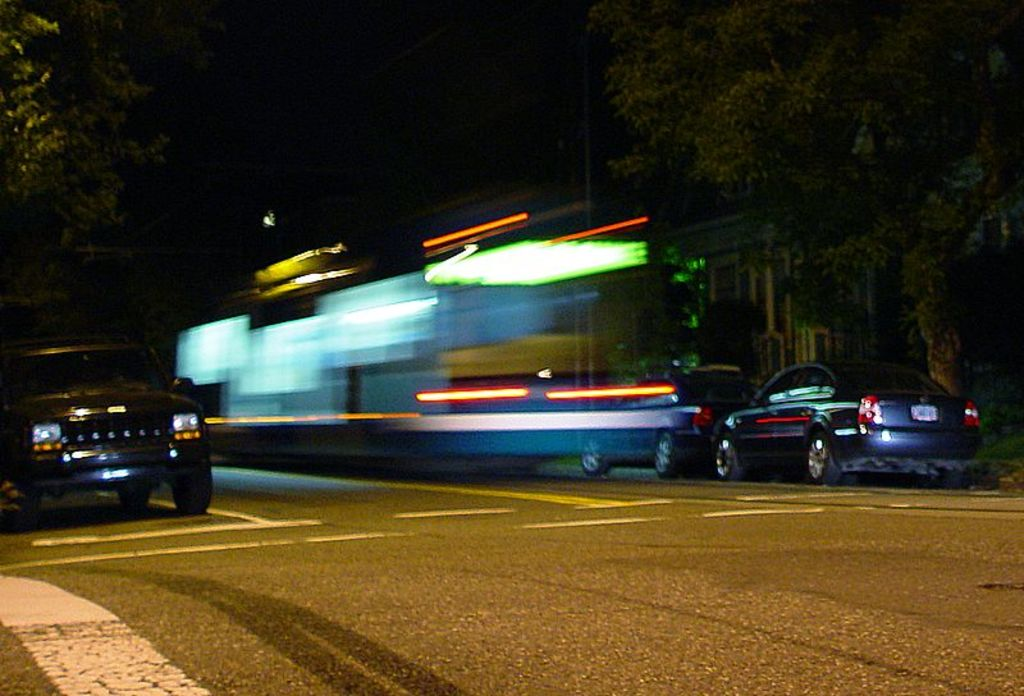Car: (8, 335, 213, 527), (715, 356, 979, 490), (593, 367, 747, 475)
